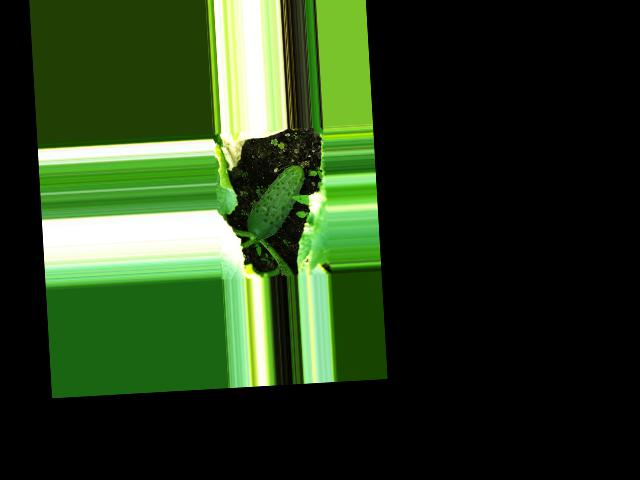cucumber: (243, 164, 308, 240)
